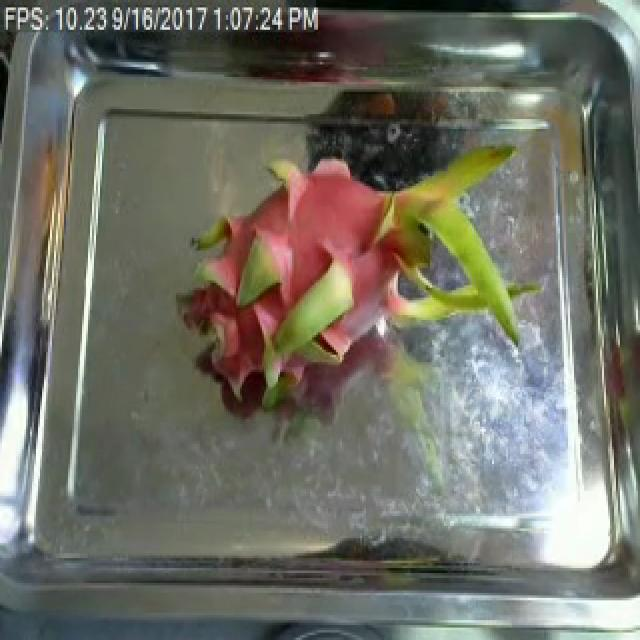fruit: (148, 107, 558, 486)
